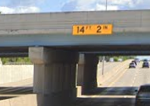1: (74, 25, 79, 35)
2: (94, 24, 102, 34)
4: (79, 24, 85, 35)
overheadsign: (70, 23, 113, 36)
